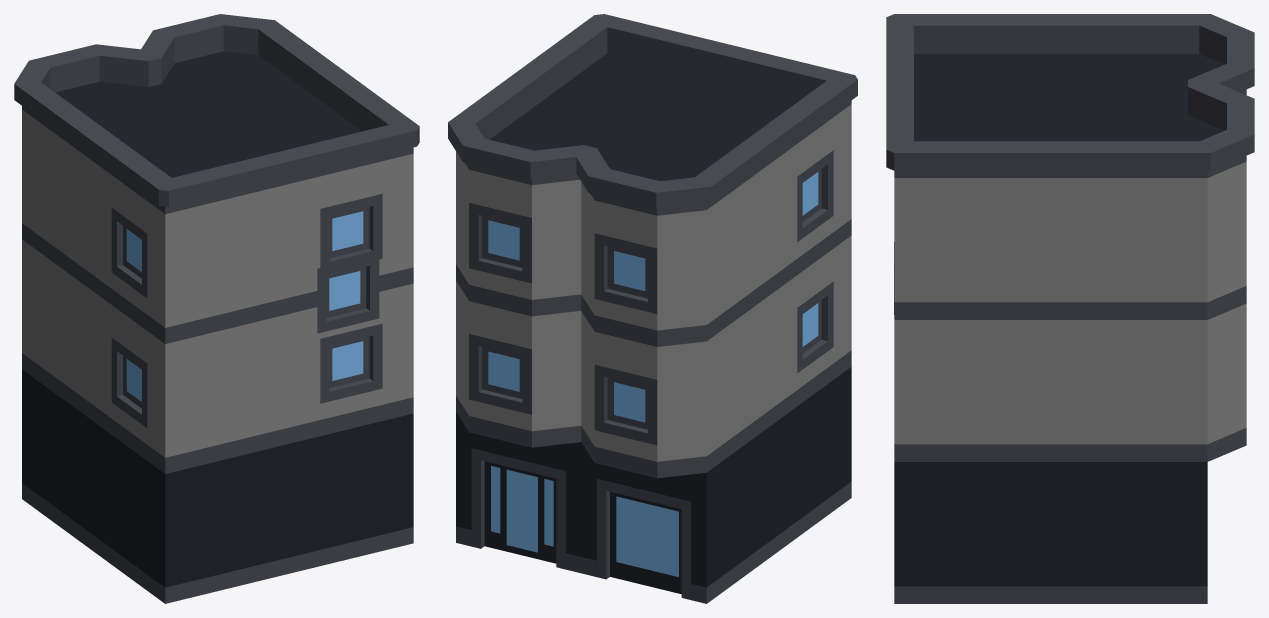
Rendered from variant_1.obj.
The picture shows the model from 3 angles, left to right: view 1: azimuth 30°, elevation 25°; view 2: azimuth 150°, elevation 25°; view 3: azimuth 270°, elevation 25°; orthographic projection. The views are drawn at different scales.
Visible parts, largest first — view 1: Building_copy, Window_copy; view 2: Building_copy; view 3: Building_copy.
Boxes of the visible parts, x1,y1,x2,y2 form: Building_copy: [14, 14, 419, 603]; Window_copy: [317, 253, 379, 333]; Building_copy: [448, 14, 857, 603]; Building_copy: [886, 14, 1254, 603].
Size of the model in its own units: 0.84 by 1.28 by 0.94.
